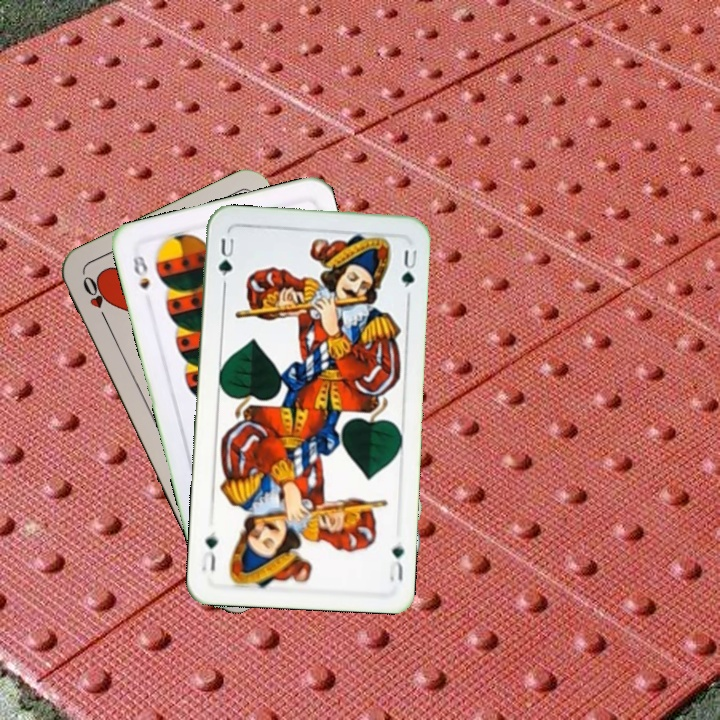GU: (214, 234, 237, 289), (385, 541, 407, 584)
HO: (78, 271, 111, 327)
S8: (128, 251, 153, 293)
